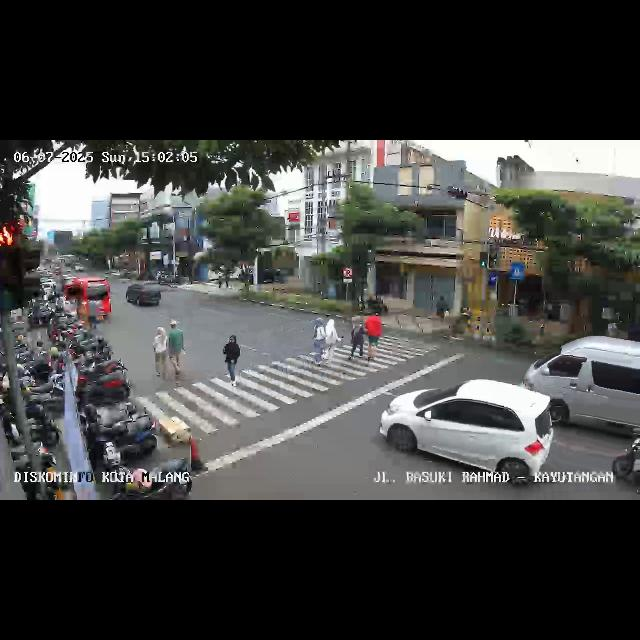car: (376, 378, 550, 494), (533, 334, 639, 446), (62, 276, 112, 326), (125, 281, 164, 311)
motorcycle: (608, 422, 640, 496)
person: (168, 320, 186, 386), (151, 323, 169, 381), (222, 333, 242, 385), (322, 319, 342, 365), (364, 316, 382, 362), (349, 314, 365, 360), (312, 318, 326, 367)
